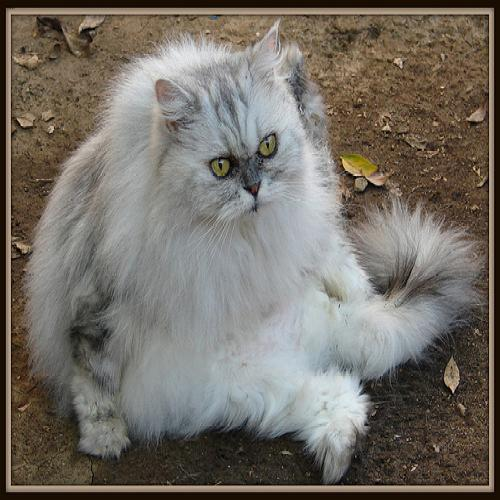persian: (148, 19, 322, 255)
